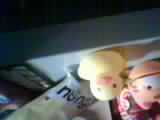duck: (69, 48, 130, 101)
